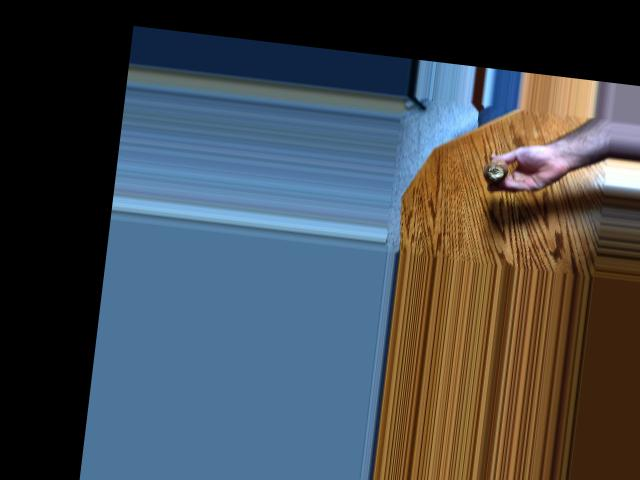sweet_potato: (476, 154, 509, 181)
